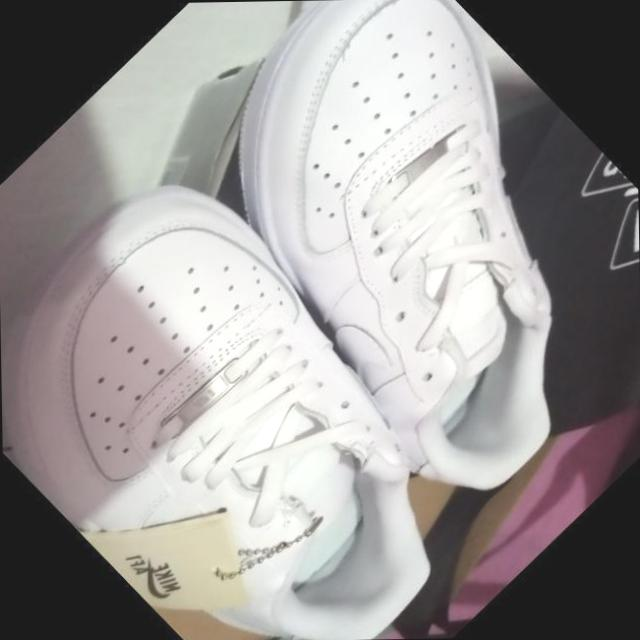nike_fake_airforce: (0, 129, 531, 640), (131, 0, 640, 525)
